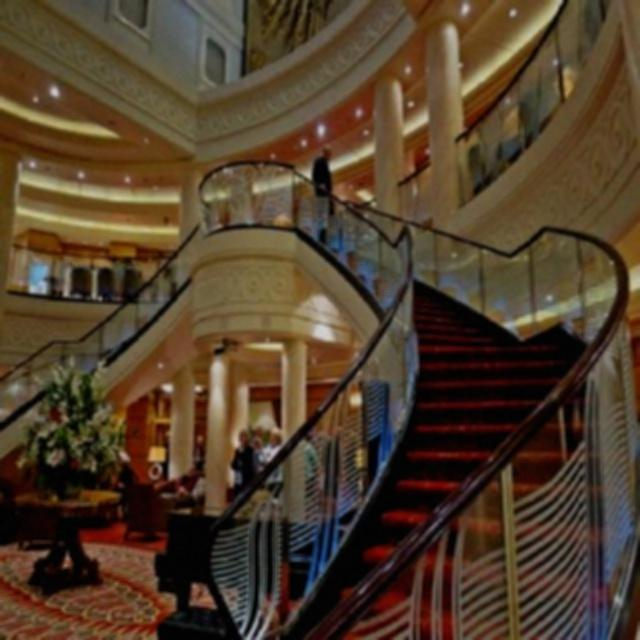stair: (329, 250, 640, 638)
